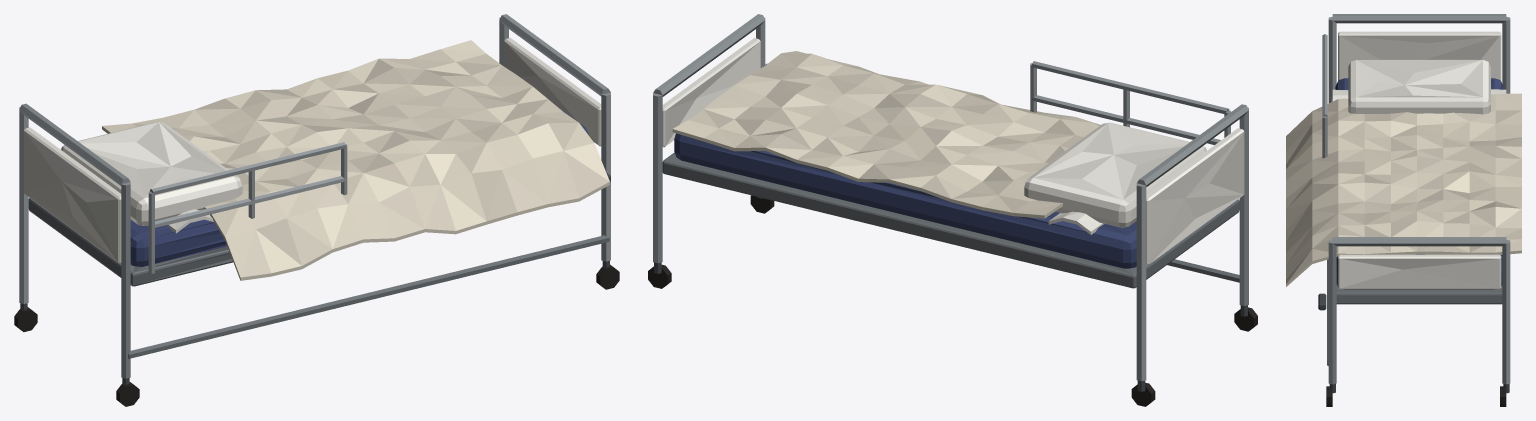
File: cot_medical_bolnichnaya_idle.glb
The picture shows the model from 3 angles, left to right: view 1: azimuth 30°, elevation 25°; view 2: azimuth 150°, elevation 25°; view 3: azimuth 270°, elevation 25°; orthographic projection. The views are drawn at different scales.
Visible parts, largest first — view 1: cot_medical_bolnichnaya_idle; view 2: cot_medical_bolnichnaya_idle; view 3: cot_medical_bolnichnaya_idle.
Part boxes in pixels (box(x1,y1,x2,y2)): cot_medical_bolnichnaya_idle: box(14, 14, 619, 406); cot_medical_bolnichnaya_idle: box(648, 14, 1257, 406); cot_medical_bolnichnaya_idle: box(1286, 14, 1521, 406).
Size of the model in its own units: 1.89 by 0.8125 by 0.91.
Materials: 1 (1 with a texture image).
